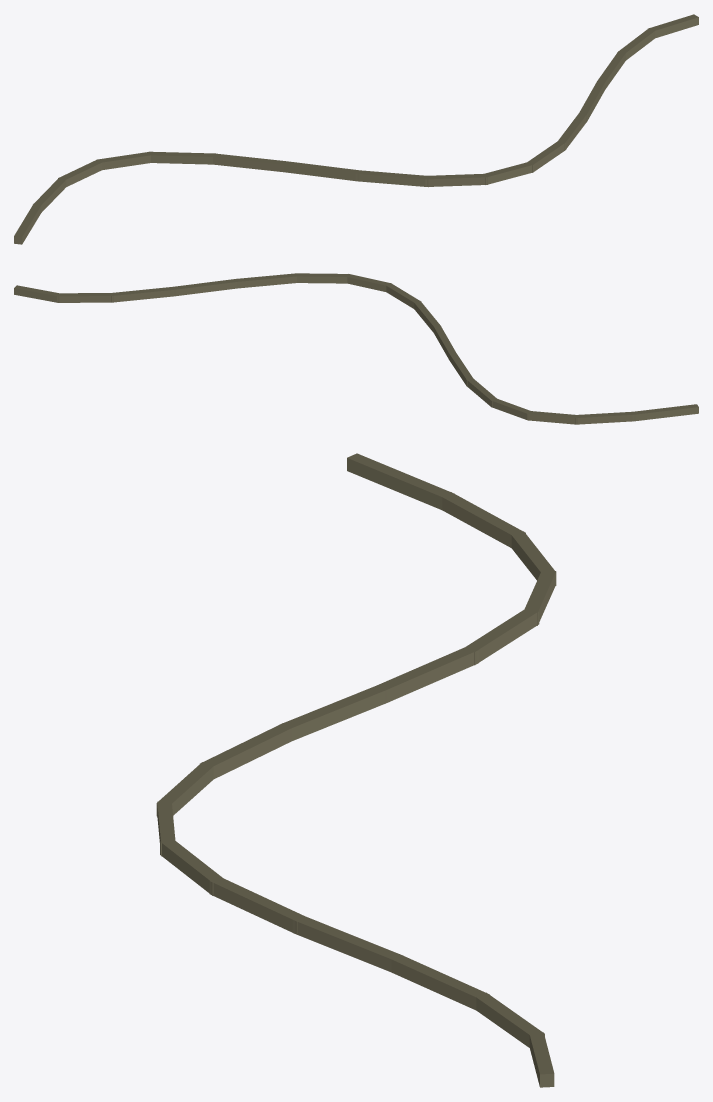
The model's file is SM_Manguera_v2_EseLarga_LOD0.fbx.
3 renders of one model, top to bottom at view 1: azimuth 30°, elevation 25°; view 2: azimuth 150°, elevation 25°; view 3: azimuth 270°, elevation 25°, orthographic. The views are drawn at different scales.
Parts seen in each view (by area): view 1: SM_farp_betera_v7_LOD0; view 2: SM_farp_betera_v7_LOD0; view 3: SM_farp_betera_v7_LOD0.
Part boxes in pixels (<box>): SM_farp_betera_v7_LOD0: <box>14,14,698,244</box>; SM_farp_betera_v7_LOD0: <box>14,273,698,424</box>; SM_farp_betera_v7_LOD0: <box>156,453,556,1087</box>.
Size of the model in its own units: 12.1 by 0.12 by 3.29.
